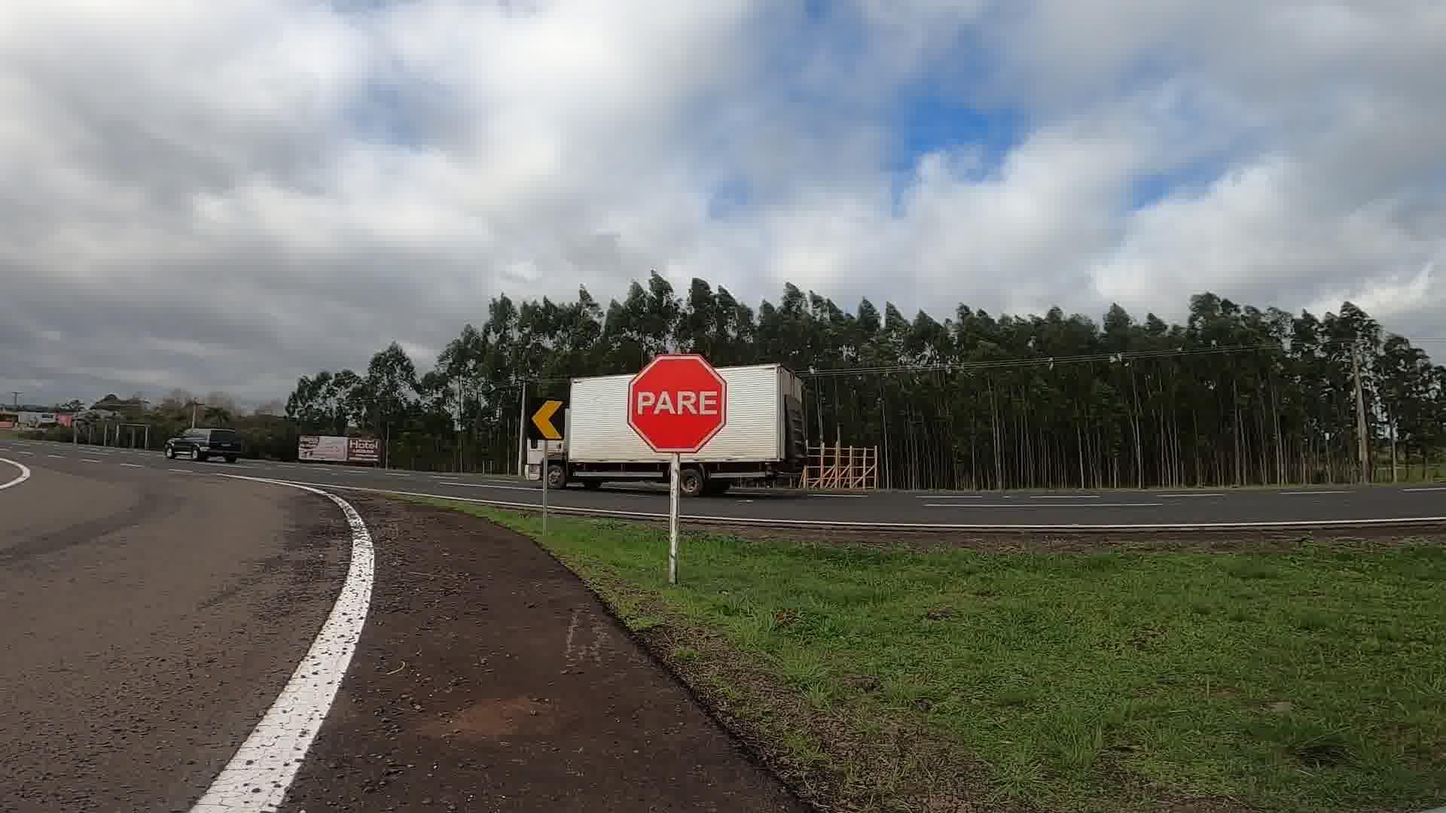R-1: (629, 351, 731, 456)
